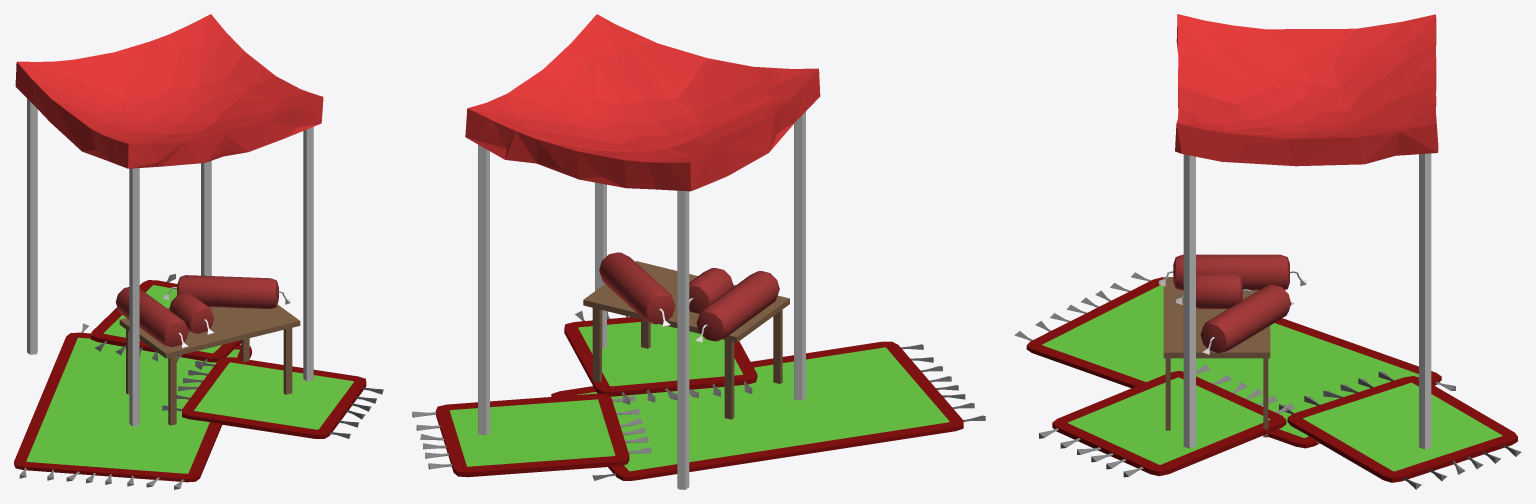
The model's file is SM_marketstand_02.fbx.
The picture shows the model from 3 angles, left to right: view 1: azimuth 30°, elevation 25°; view 2: azimuth 150°, elevation 25°; view 3: azimuth 270°, elevation 25°; orthographic projection. The views are drawn at different scales.
Parts seen in each view (by area): view 1: Group50665; view 2: Group50665; view 3: Group50665.
Boxes of the visible parts, box(x1,y1,x2,y2) form: Group50665: box(14, 14, 383, 489); Group50665: box(412, 14, 985, 489); Group50665: box(1014, 14, 1521, 489).
Size of the model in its own units: 154 by 155 by 113.
